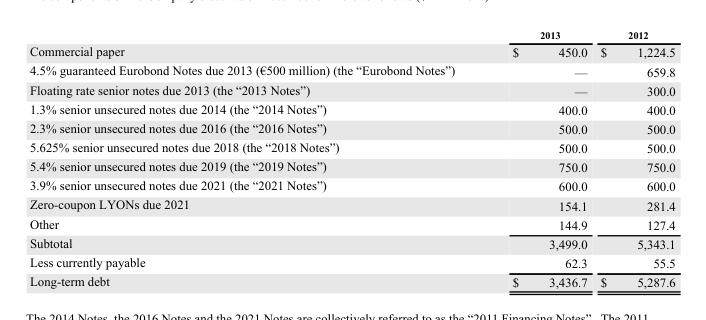table: (28, 28, 674, 289)
table column: (28, 28, 482, 289), (482, 28, 593, 289), (593, 28, 674, 289)
table column header: (28, 28, 674, 41)
table row: (28, 41, 674, 61), (28, 175, 674, 195), (28, 61, 674, 80), (28, 80, 674, 99), (28, 99, 674, 118), (28, 118, 674, 137), (28, 137, 674, 156), (28, 156, 674, 175), (28, 195, 674, 214), (28, 214, 674, 233), (28, 233, 674, 252), (28, 252, 674, 271), (28, 271, 674, 289), (28, 28, 674, 41)
